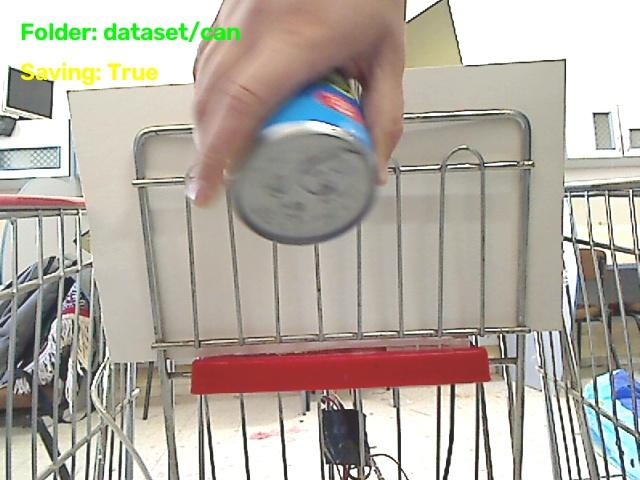can: (229, 73, 376, 244)
